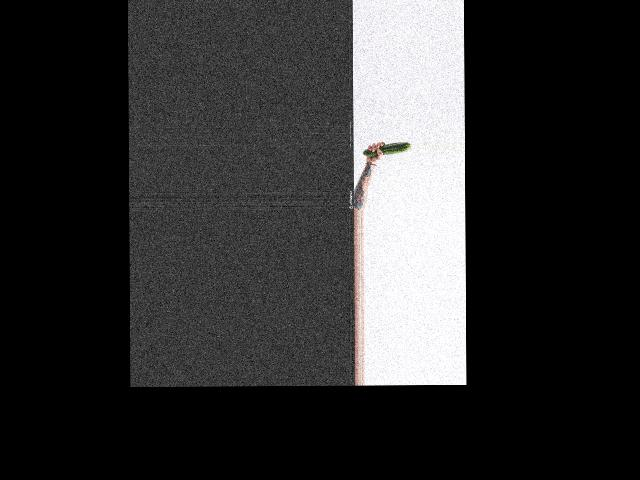cucumber: (363, 141, 411, 156)
